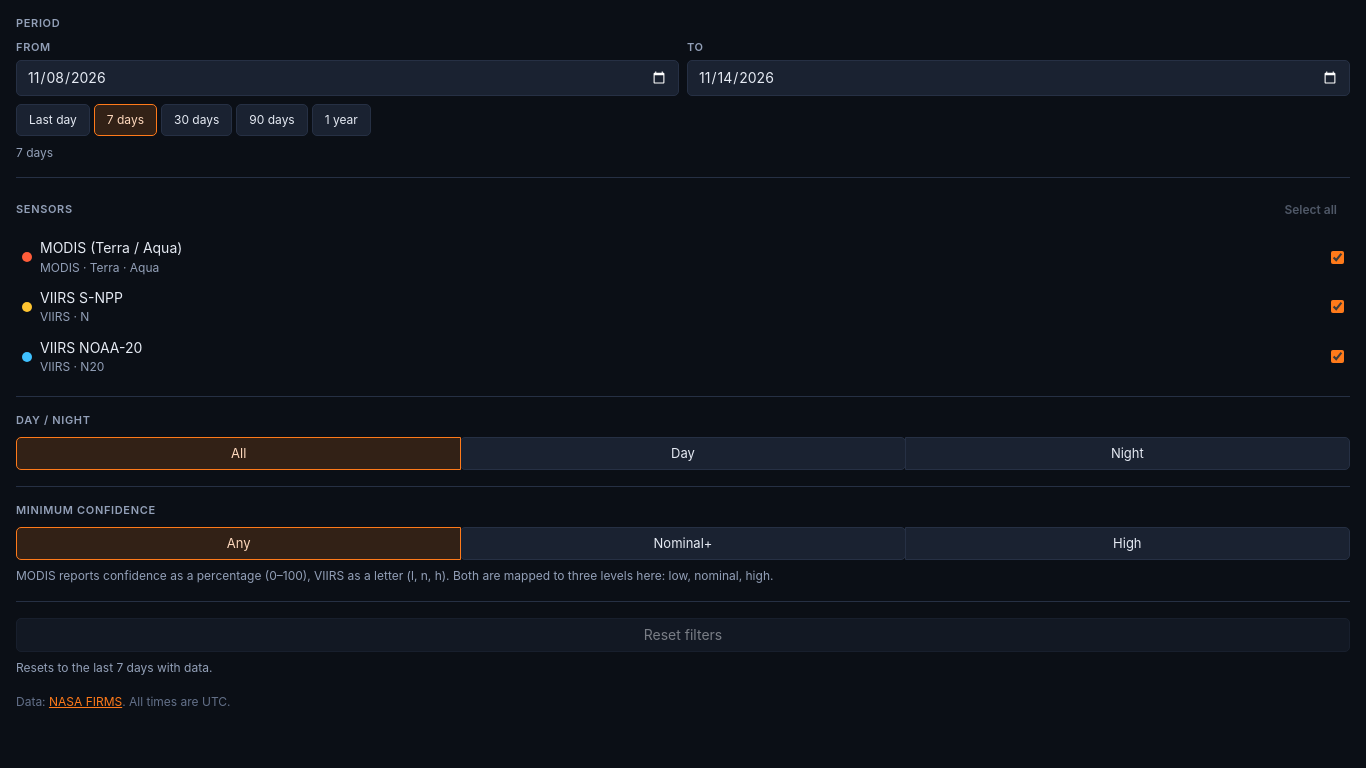
Test: FiltersPanel › preset sets a range relative to meta.date_max
Click the button "30 days" at coordinates (197, 120), box top-left (161, 104), bottom-right (232, 136)
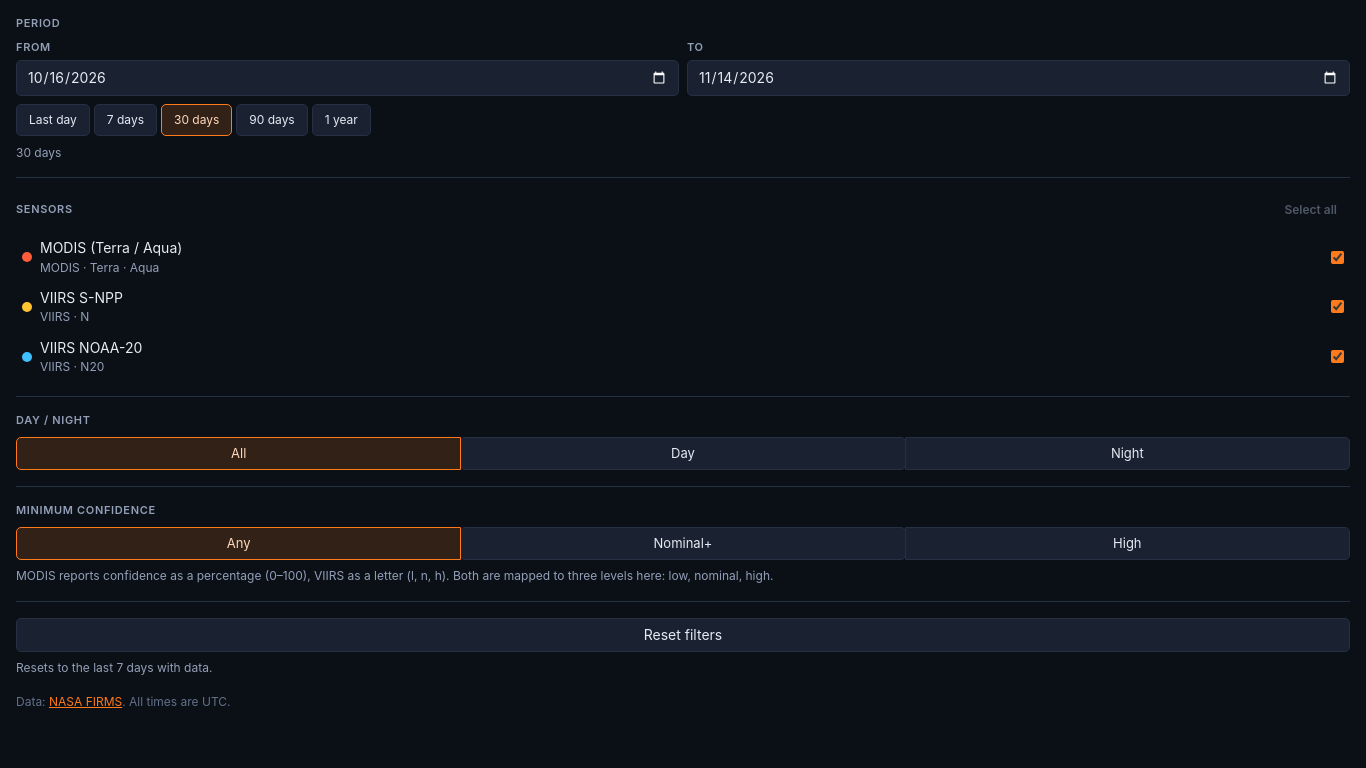
Expected: the text "30 days" is shown, top-left (16, 145), bottom-right (61, 160)
Click the button "Last day" at coordinates (53, 120), box top-left (16, 104), bottom-right (90, 136)
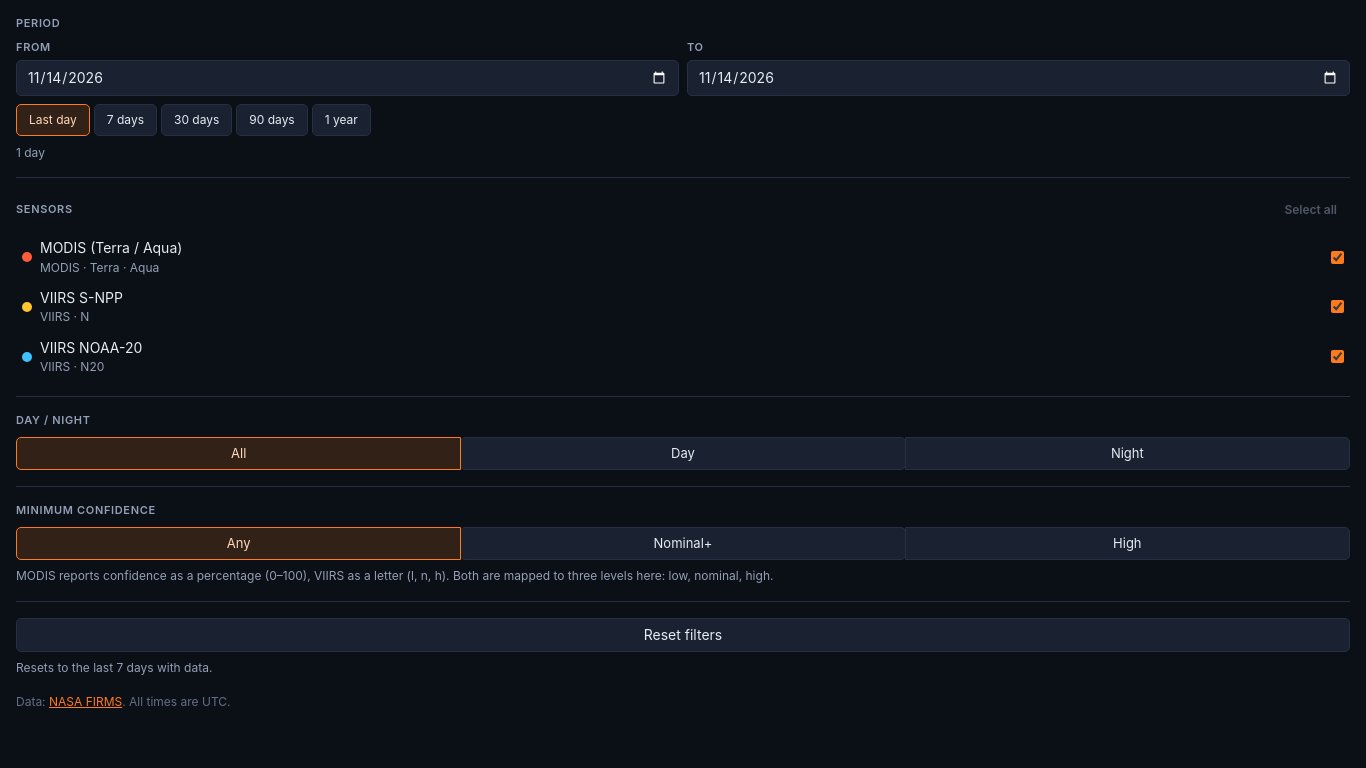
Expected: the text "1 day" is shown, top-left (16, 145), bottom-right (45, 160)
